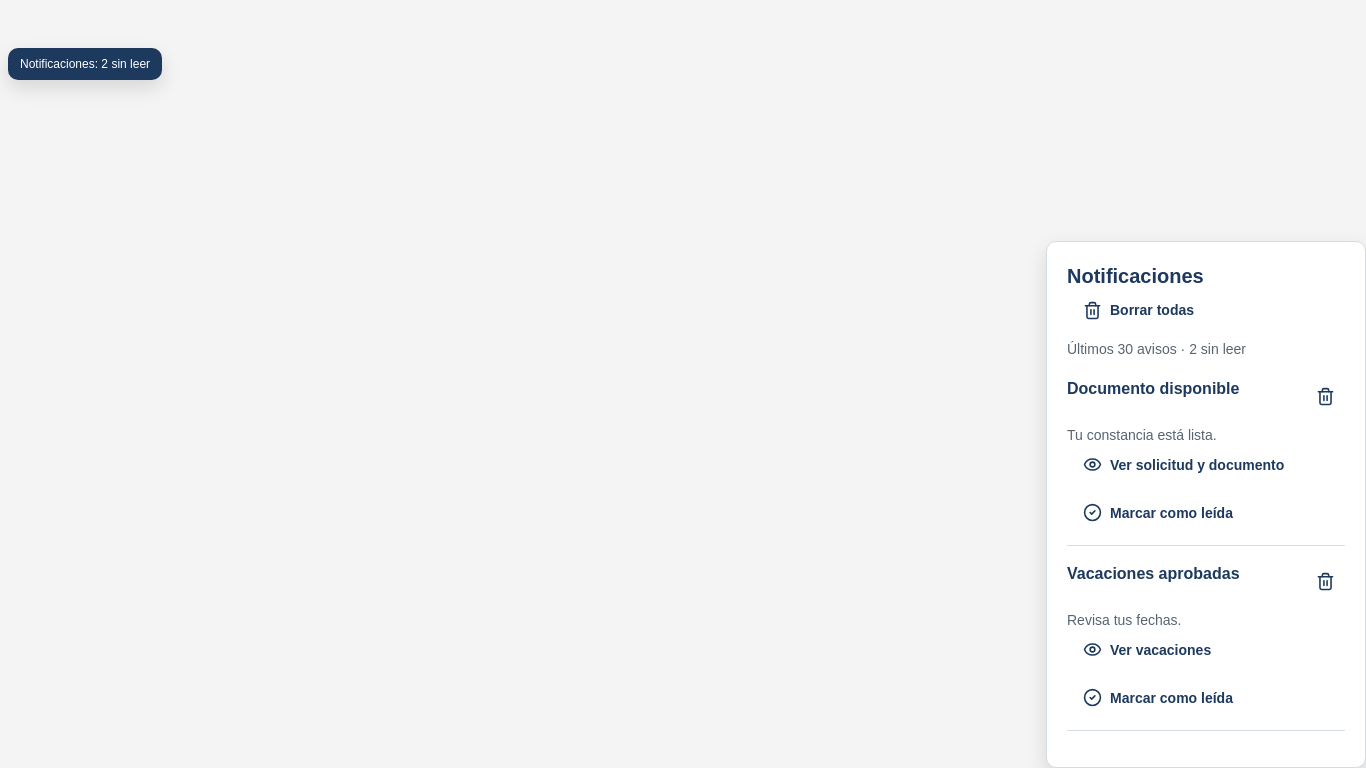
Test: Notificaciones propias › un error conserva el aviso y permite reintentar
(page scrolled)
Check: the text "Documento disponible" is shown, box [1067,377,1240,401]
Click the button named "Borrar notificación: Documento disponible".
click(1325, 397)  # box [1305,377,1345,417]
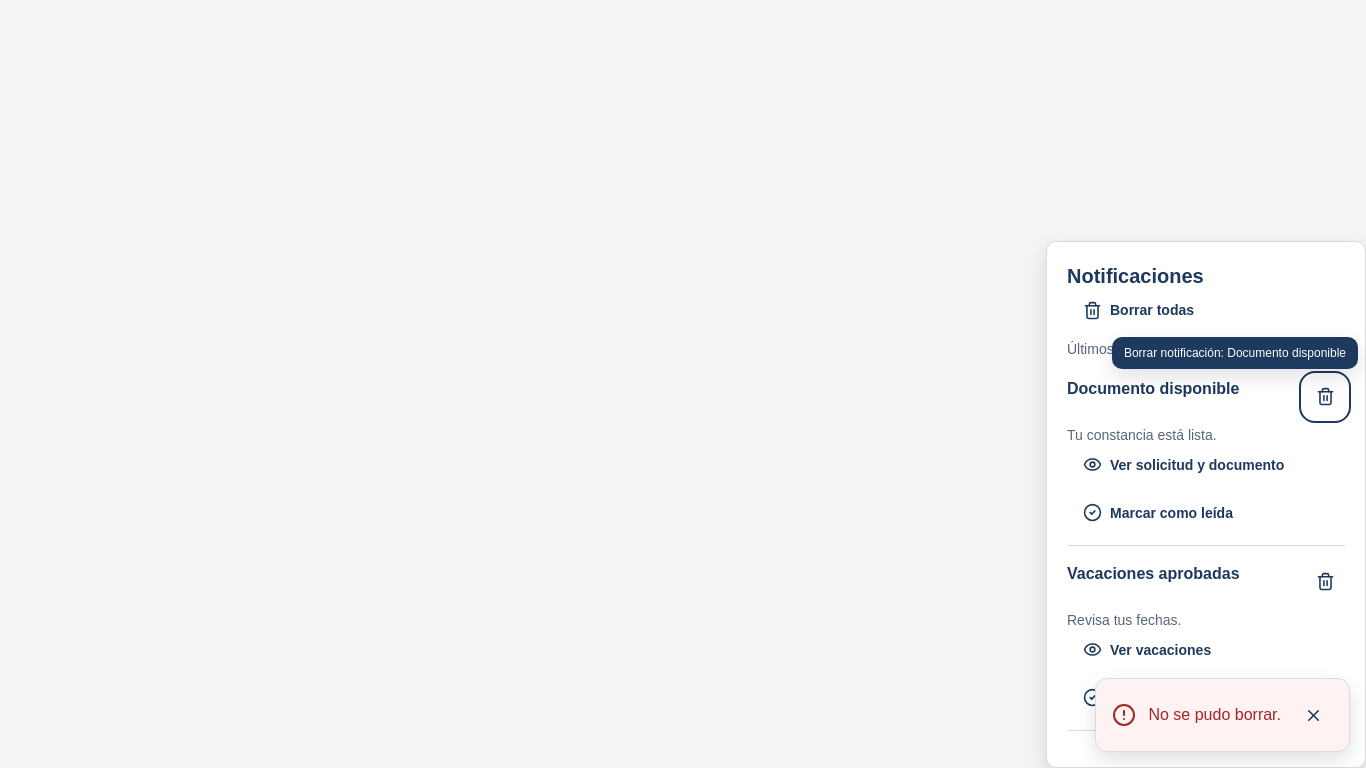
Check: the text "Documento disponible" is shown, box [1067,377,1240,401]
Check: the text "No se pudo borrar." is shown, box [1148,703,1281,727]
Click the button named "Borrar notificación: Documento disponible".
click(1325, 397)  # box [1305,377,1345,417]
(page scrolled)
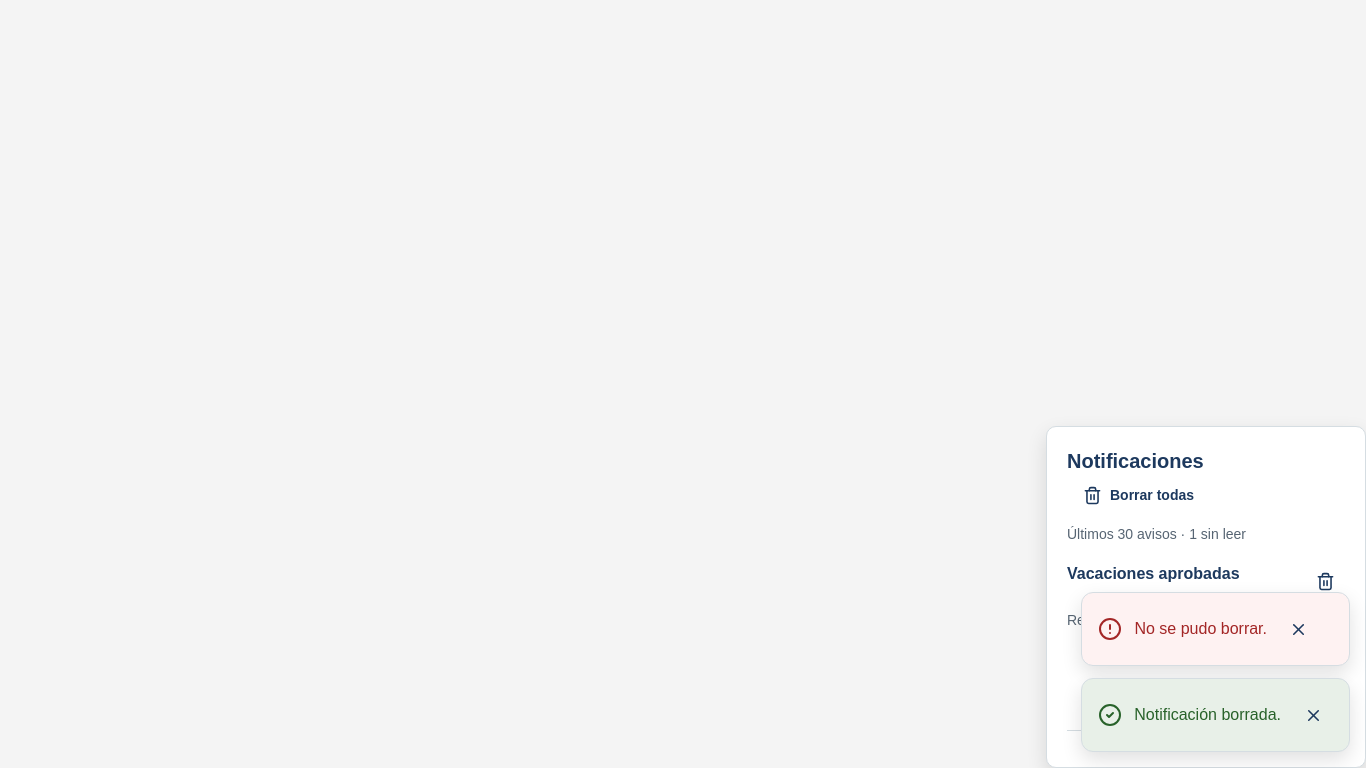
Check: the text "Documento disponible" is gone
